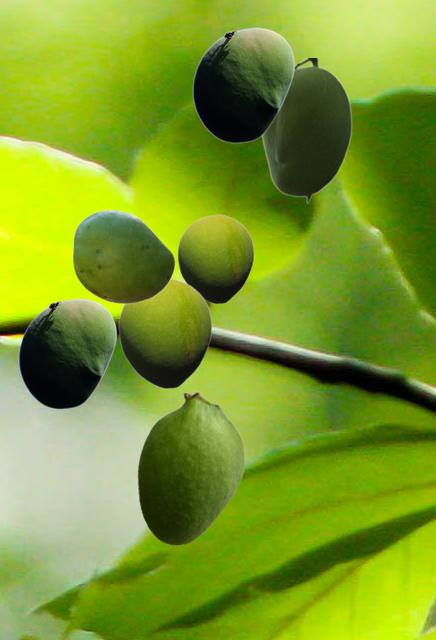green_mango: (137, 390, 244, 544), (260, 58, 351, 203), (192, 27, 294, 142), (18, 298, 116, 408), (118, 278, 211, 388), (72, 209, 174, 303), (177, 214, 253, 303)
